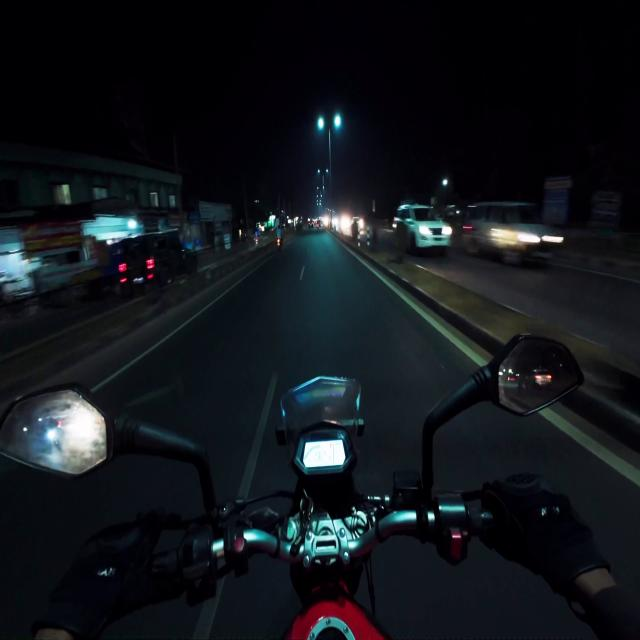car: (462, 202, 563, 264), (394, 204, 451, 253)
motorcycle: (0, 336, 583, 639), (277, 238, 282, 250)
